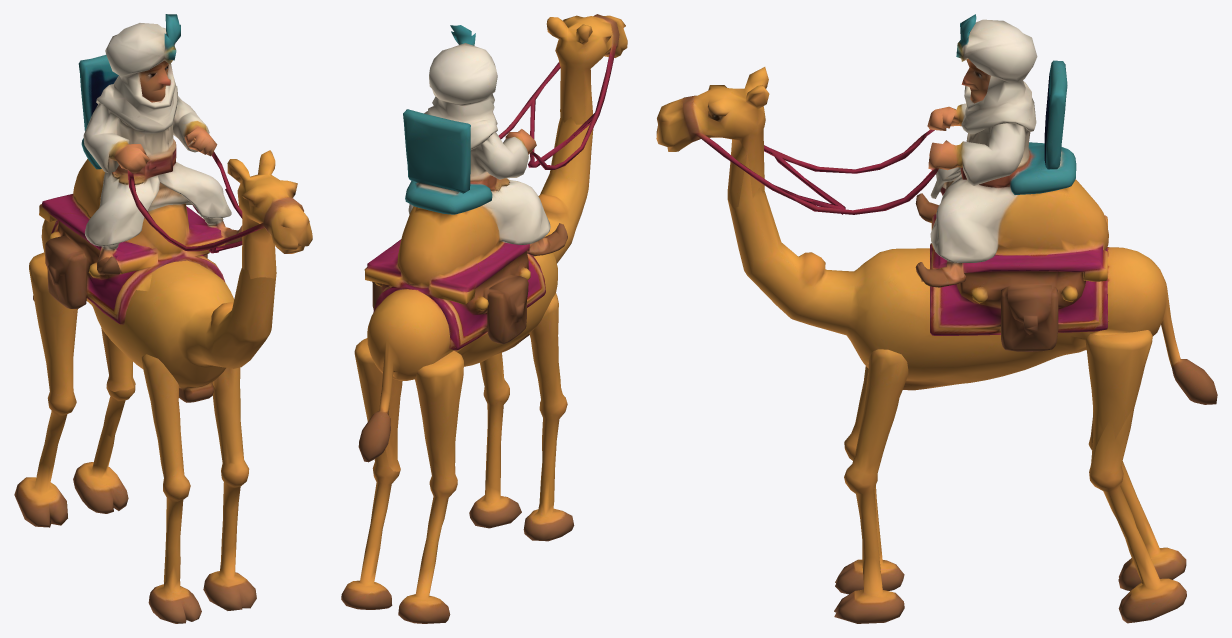
The model's file is camel.glb.
The picture shows the model from 3 angles, left to right: view 1: azimuth 30°, elevation 25°; view 2: azimuth 150°, elevation 25°; view 3: azimuth 270°, elevation 25°; orthographic projection. The views are drawn at different scales.
Parts seen in each view (by area): view 1: tripo_part_0, tripo_part_2, tripo_part_1, tripo_part_5, tripo_part_3, tripo_part_4, tripo_part_6, tripo_part_7; view 2: tripo_part_0, tripo_part_2, tripo_part_1, tripo_part_3, tripo_part_5, tripo_part_4, tripo_part_6, tripo_part_7; view 3: tripo_part_0, tripo_part_2, tripo_part_3, tripo_part_4, tripo_part_6, tripo_part_7, tripo_part_1, tripo_part_5.
Part boxes in pixels (x1,y1,x2,y2): tripo_part_0: (39, 14, 242, 324); tripo_part_2: (33, 219, 276, 402); tripo_part_1: (14, 252, 77, 527); tripo_part_5: (141, 354, 201, 623); tripo_part_3: (194, 150, 312, 278); tripo_part_4: (203, 367, 256, 610); tripo_part_6: (73, 361, 135, 513); tripo_part_7: (101, 327, 133, 391); tripo_part_0: (364, 25, 588, 350); tripo_part_2: (358, 111, 593, 462); tripo_part_1: (398, 351, 463, 623); tripo_part_3: (520, 14, 627, 160); tripo_part_5: (523, 293, 574, 541); tripo_part_4: (469, 352, 521, 528); tripo_part_6: (341, 414, 400, 609); tripo_part_7: (354, 338, 402, 471); tripo_part_0: (793, 14, 1108, 351); tripo_part_2: (727, 153, 1217, 404); tripo_part_3: (656, 67, 837, 208); tripo_part_4: (834, 349, 908, 623); tripo_part_6: (1089, 409, 1186, 623); tripo_part_7: (1085, 330, 1152, 474); tripo_part_1: (1088, 320, 1186, 590); tripo_part_5: (835, 366, 904, 594).
Size of the model in its own units: 0.281 by 0.9821 by 0.8387.
Materials: 1 (1 with a texture image).
